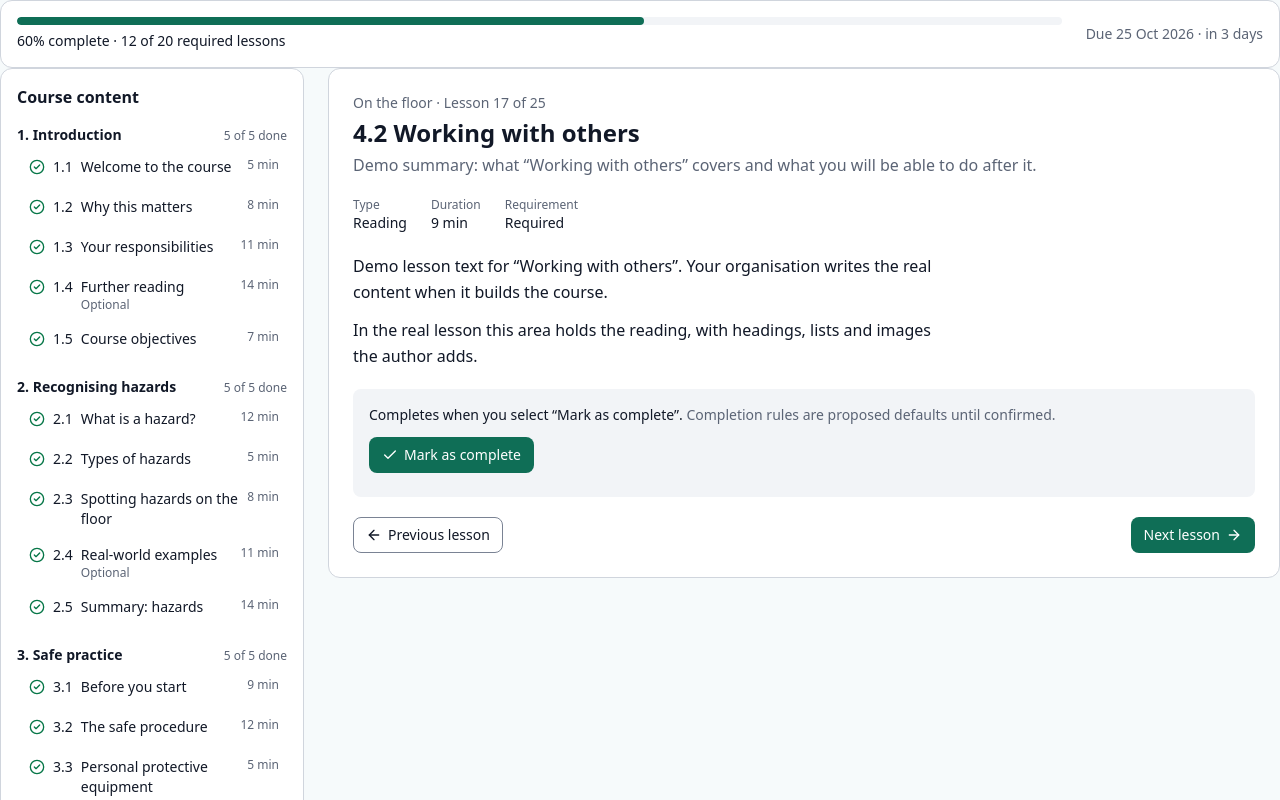
completion actions follow the lesson’s rule (D-041) and are not connected › a manual lesson offers "Mark as complete", which says nothing was saved
Click the button "Mark as complete" at coordinates (452, 455), box 369,437 -> 534,473
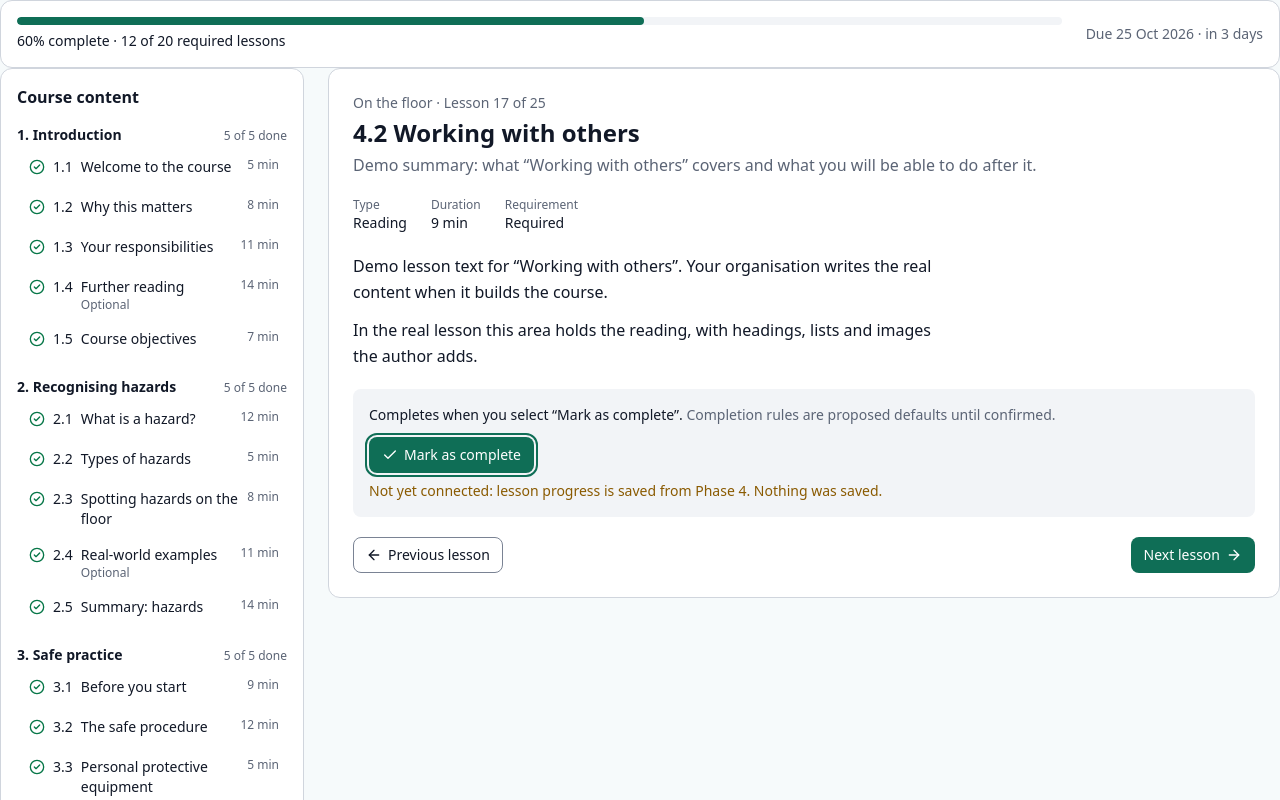
Now the message shows "Not yet connected", box 369,481 -> 882,500
Now the message shows "Nothing was saved.", box 369,481 -> 882,500
